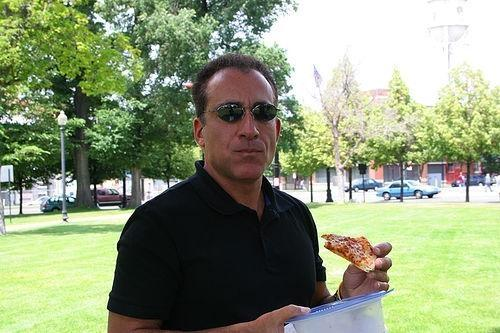car: (376, 180, 442, 200), (92, 185, 130, 208), (40, 195, 76, 213), (342, 176, 382, 192), (451, 175, 486, 187)
truck: (96, 188, 132, 205)
